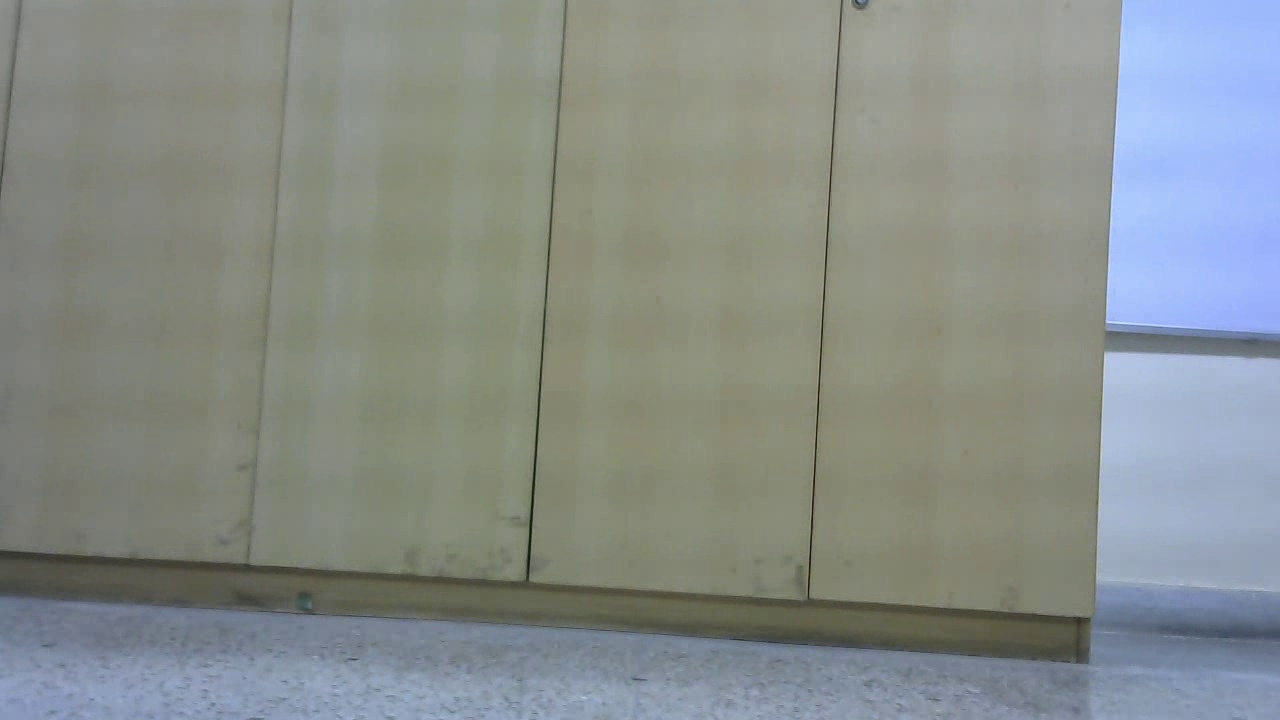chair: (1, 67, 285, 567)
